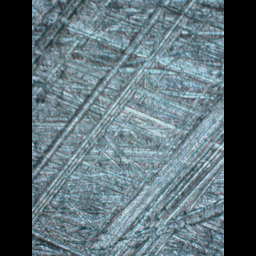d: (32, 0, 223, 254)
